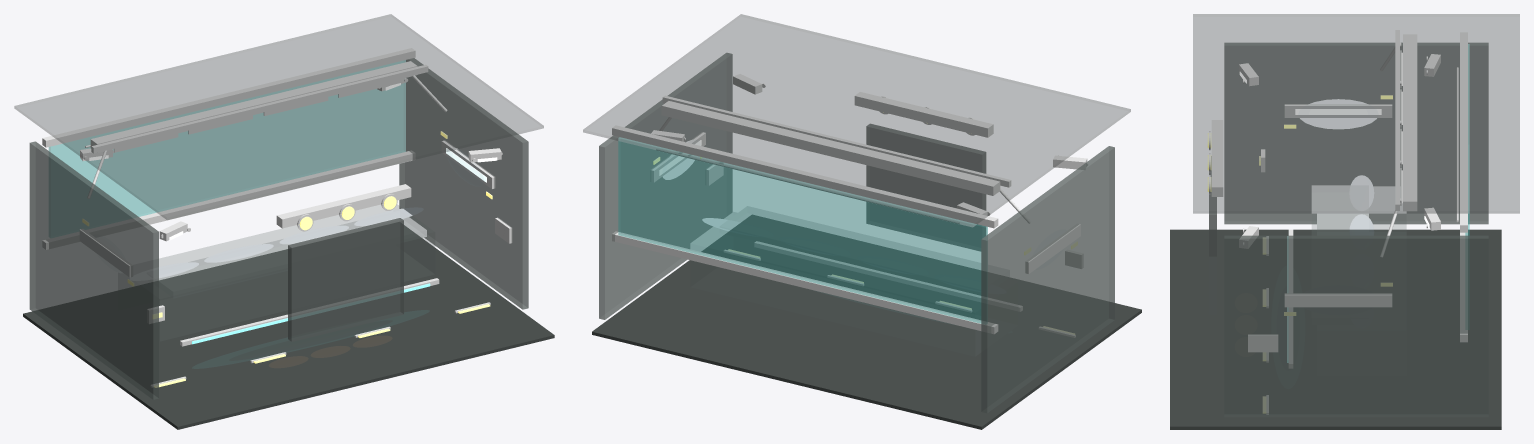
File: ck_light12.glb
3 renders of one model, left to right at view 1: azimuth 30°, elevation 25°; view 2: azimuth 150°, elevation 25°; view 3: azimuth 270°, elevation 25°, orthographic. The views are drawn at different scales.
Parts seen in each view (by area): view 1: context ceiling reference plane, context floor clearance, context front panoramic screen, context left cockpit wall, context right cockpit wall, context approved CK-02 console body ghost, context rear cargo threshold, context approved CK-02 console top ghost, context front screen upper frame, context front screen lower frame, front ceiling inspection rail rear conduit, front ceiling inspection rail armored body (+5 smaller); view 2: context ceiling reference plane, context floor clearance, context front panoramic screen, context left cockpit wall, context right cockpit wall, context approved CK-02 console body ghost, context rear cargo threshold, front ceiling inspection rail armored body, context front screen lower frame, context front screen upper frame, rear threshold inspection light mounting rail, console front underdeck inspection strip backing (+3 smaller); view 3: context ceiling reference plane, context floor clearance, context right cockpit wall, context left cockpit wall, front ceiling inspection rail armored body, context approved CK-02 console body ghost, right wall inspection strip recessed backing, context front screen upper frame, context approved CK-02 console top ghost, left wall inspection strip recessed backing, context rear cargo threshold, rear threshold inspection light mounting rail (+7 smaller).
Part boxes in pixels (x1,y1,x2,y2): context ceiling reference plane: [14, 14, 543, 219]; context floor clearance: [23, 225, 554, 429]; context front panoramic screen: [48, 60, 405, 216]; context left cockpit wall: [29, 141, 158, 399]; context right cockpit wall: [399, 58, 528, 309]; context approved CK-02 console body ghost: [159, 204, 434, 340]; context rear cargo threshold: [288, 218, 403, 341]; context approved CK-02 console top ghost: [159, 211, 426, 298]; context front screen upper frame: [42, 48, 415, 147]; context front screen lower frame: [42, 150, 415, 249]; front ceiling inspection rail rear conduit: [91, 65, 428, 153]; front ceiling inspection rail armored body: [90, 61, 417, 152]; context ceiling reference plane: [583, 14, 1130, 227]; context floor clearance: [592, 214, 1141, 429]; context front panoramic screen: [618, 137, 987, 323]; context left cockpit wall: [981, 146, 1114, 413]; context right cockpit wall: [599, 53, 732, 319]; context approved CK-02 console body ghost: [690, 261, 980, 356]; context rear cargo threshold: [866, 123, 986, 251]; front ceiling inspection rail armored body: [661, 101, 1000, 195]; context front screen lower frame: [612, 231, 998, 333]; context front screen upper frame: [612, 125, 998, 228]; rear threshold inspection light mounting rail: [854, 92, 993, 137]; console front underdeck inspection strip backing: [754, 241, 1022, 311]; context ceiling reference plane: [1193, 14, 1519, 213]; context floor clearance: [1170, 229, 1501, 429]; context right cockpit wall: [1224, 235, 1488, 417]; context left cockpit wall: [1224, 42, 1488, 224]; front ceiling inspection rail armored body: [1403, 34, 1417, 211]; context approved CK-02 console body ghost: [1317, 187, 1406, 235]; right wall inspection strip recessed backing: [1284, 293, 1392, 307]; context front screen upper frame: [1460, 32, 1467, 232]; context approved CK-02 console top ghost: [1312, 186, 1368, 235]; left wall inspection strip recessed backing: [1284, 104, 1392, 117]; context rear cargo threshold: [1209, 156, 1216, 315]; rear threshold inspection light mounting rail: [1211, 120, 1223, 196].
Size of the model in its own units: 5.2 by 2.7 by 3.91.
